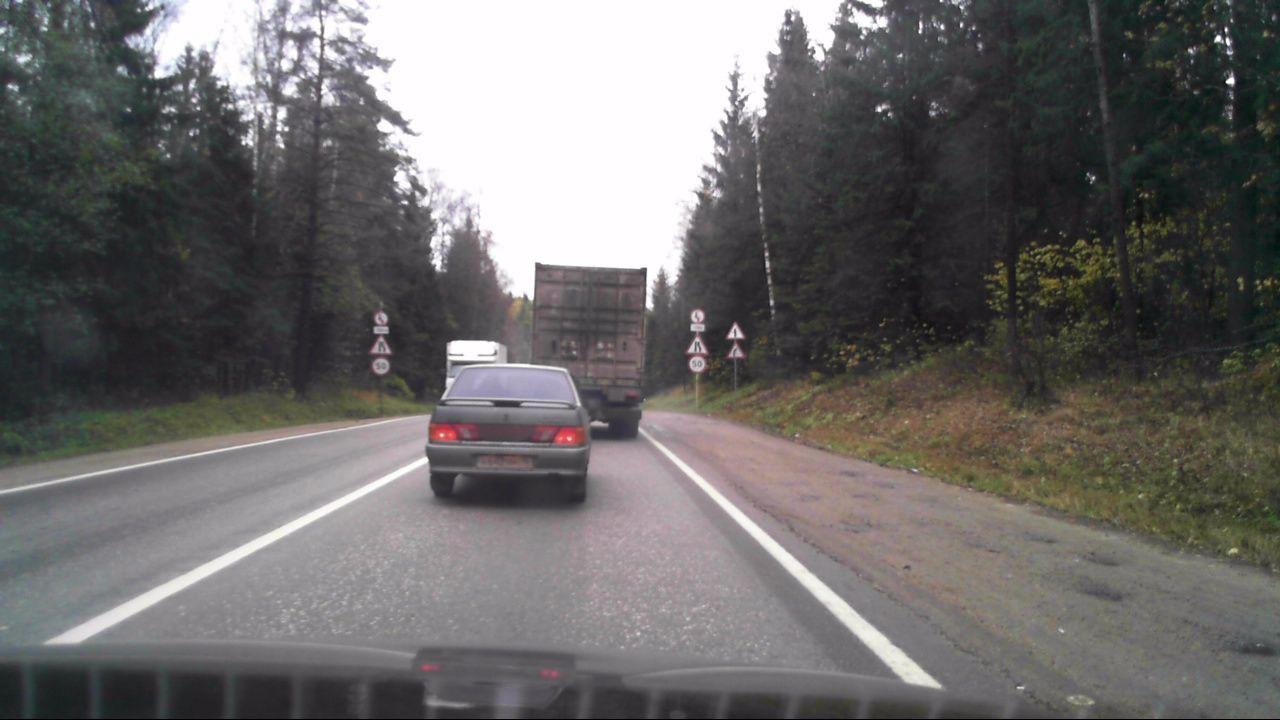1_11_1: (727, 342, 747, 359)
1_20_2: (368, 335, 392, 355), (686, 334, 708, 355)
2_3_3: (723, 319, 747, 339)
2_6: (372, 309, 389, 325), (691, 306, 706, 321)
3_24: (370, 357, 392, 374), (689, 356, 706, 371)
8_1_1: (690, 322, 707, 332), (374, 327, 389, 333)
